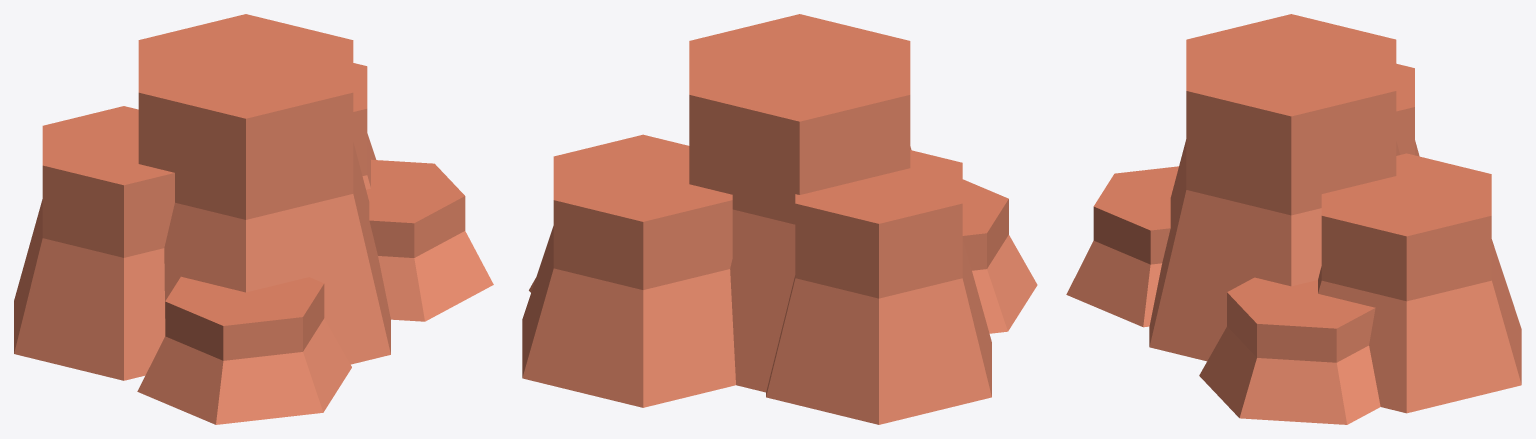
The model's file is rock_largeA.dae.
3 views of the same model, side by side, from view 1: azimuth 30°, elevation 25°; view 2: azimuth 150°, elevation 25°; view 3: azimuth 270°, elevation 25° (orthographic). The views are drawn at different scales.
Visible parts, largest first — view 1: rock_largeA; view 2: rock_largeA; view 3: rock_largeA.
Part boxes in pixels (left/top/right/bottom): rock_largeA: left=14, top=14, right=493, bottom=424; rock_largeA: left=522, top=14, right=1037, bottom=424; rock_largeA: left=1066, top=14, right=1521, bottom=424.
Bounding box in the file's own units: 0.9193 × 0.5 × 0.8339.
